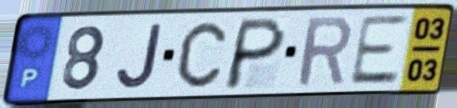8: (60, 23, 107, 93)
C: (175, 19, 229, 90)
E: (345, 13, 410, 88)
J: (113, 21, 166, 92)
P: (220, 15, 290, 92)
R: (295, 13, 354, 90)
